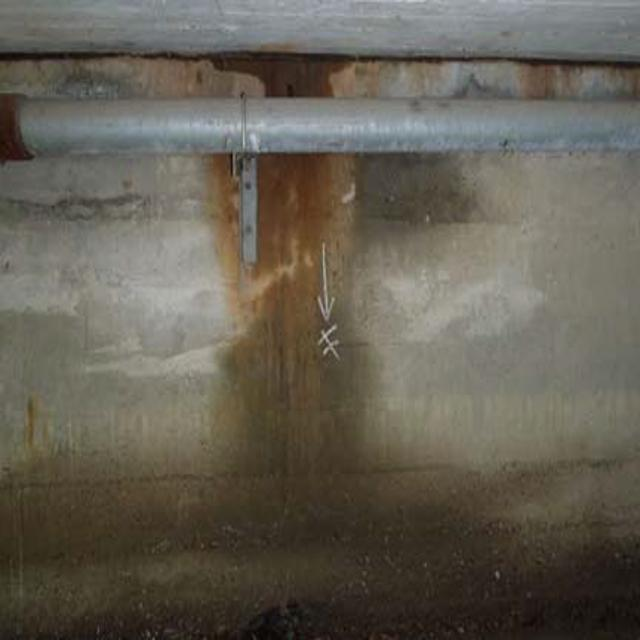leakage: (216, 44, 427, 603)
